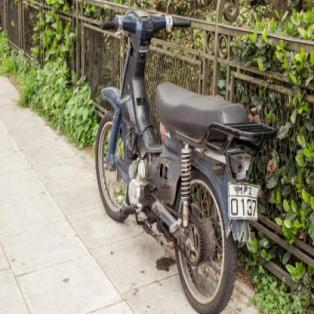Motocicleta: (78, 0, 282, 313)
